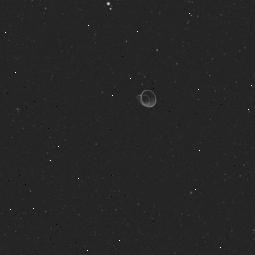debris: (132, 81, 164, 111)
